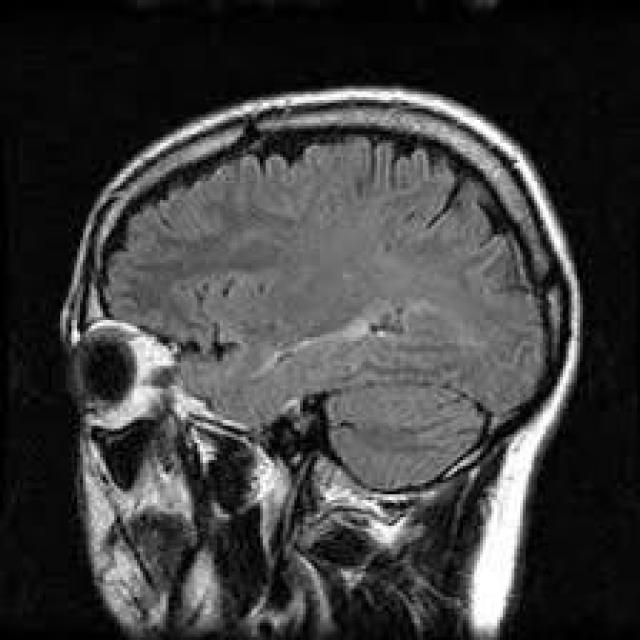no_tumor: (52, 69, 590, 640)
